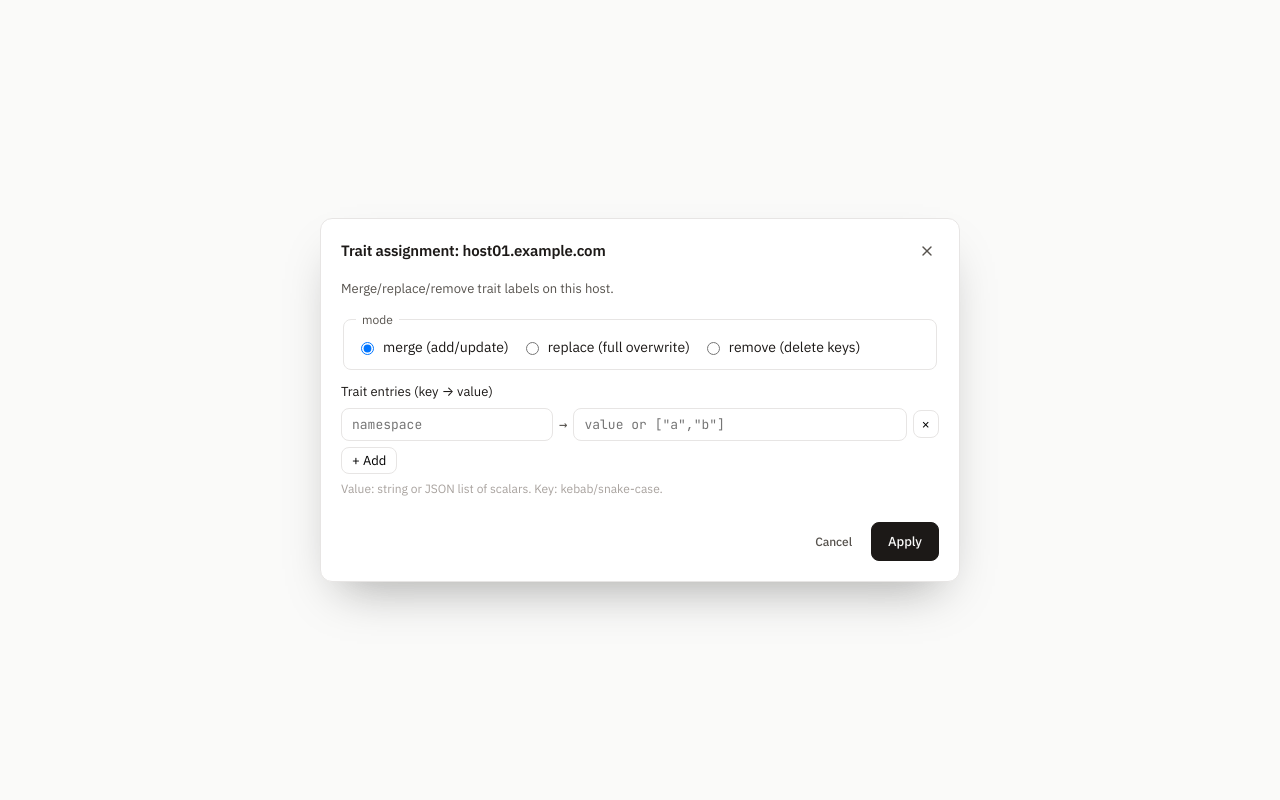
Test: TraitsAssignModal › accepts snake_case key owner_team (NIM-67)
Type "owner_team" into the field with test id "trait-key-0" at (447,424), box top-left (341, 408), bottom-right (553, 441)
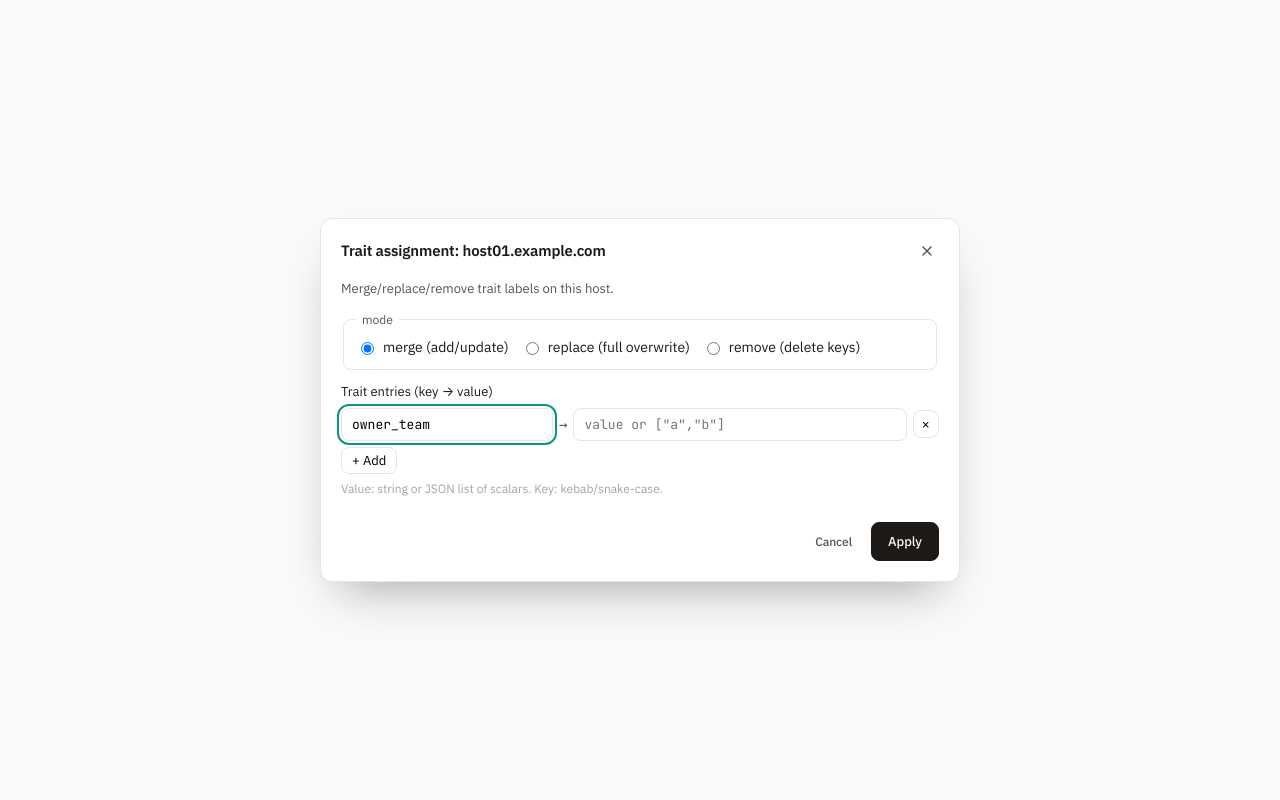
Type "dba" into the field with test id "trait-val-0" at (740,424), box top-left (573, 408), bottom-right (907, 441)
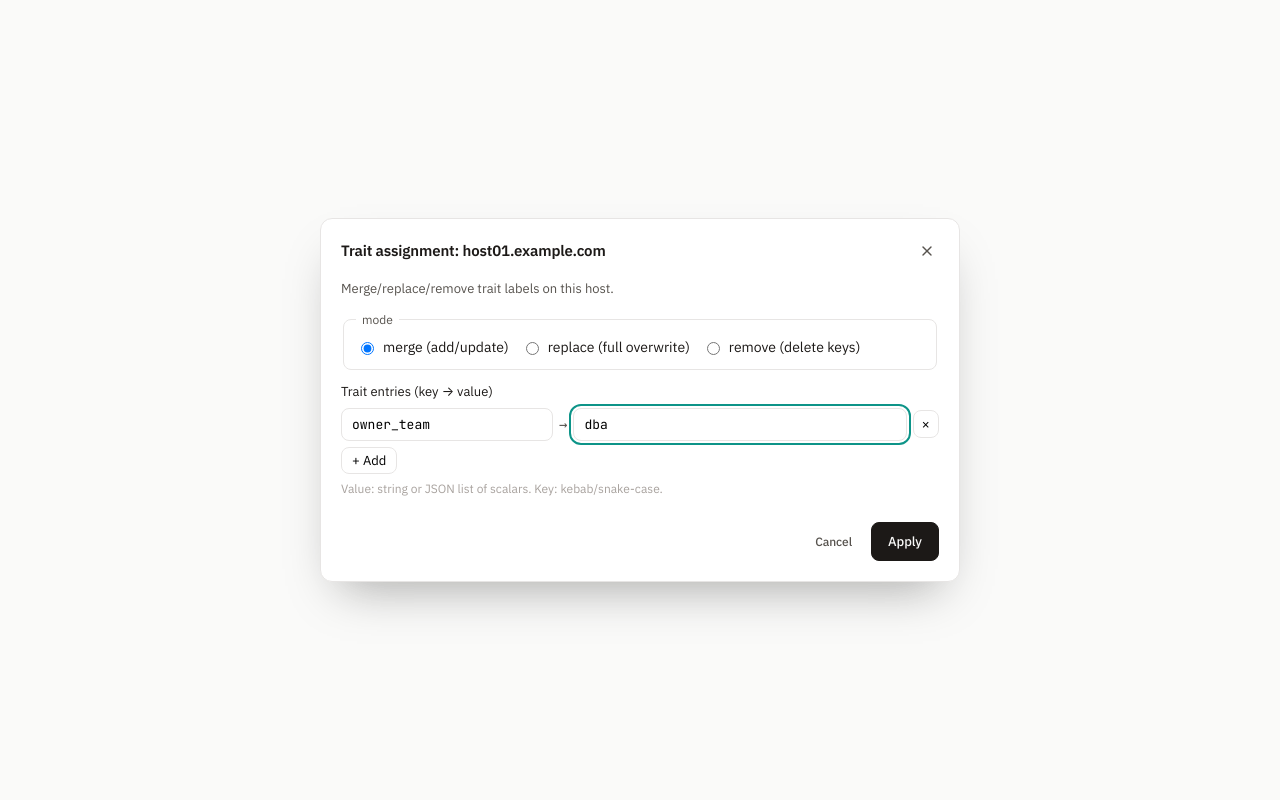
Click the button "Apply" at (905,541), box top-left (871, 522), bottom-right (939, 561)
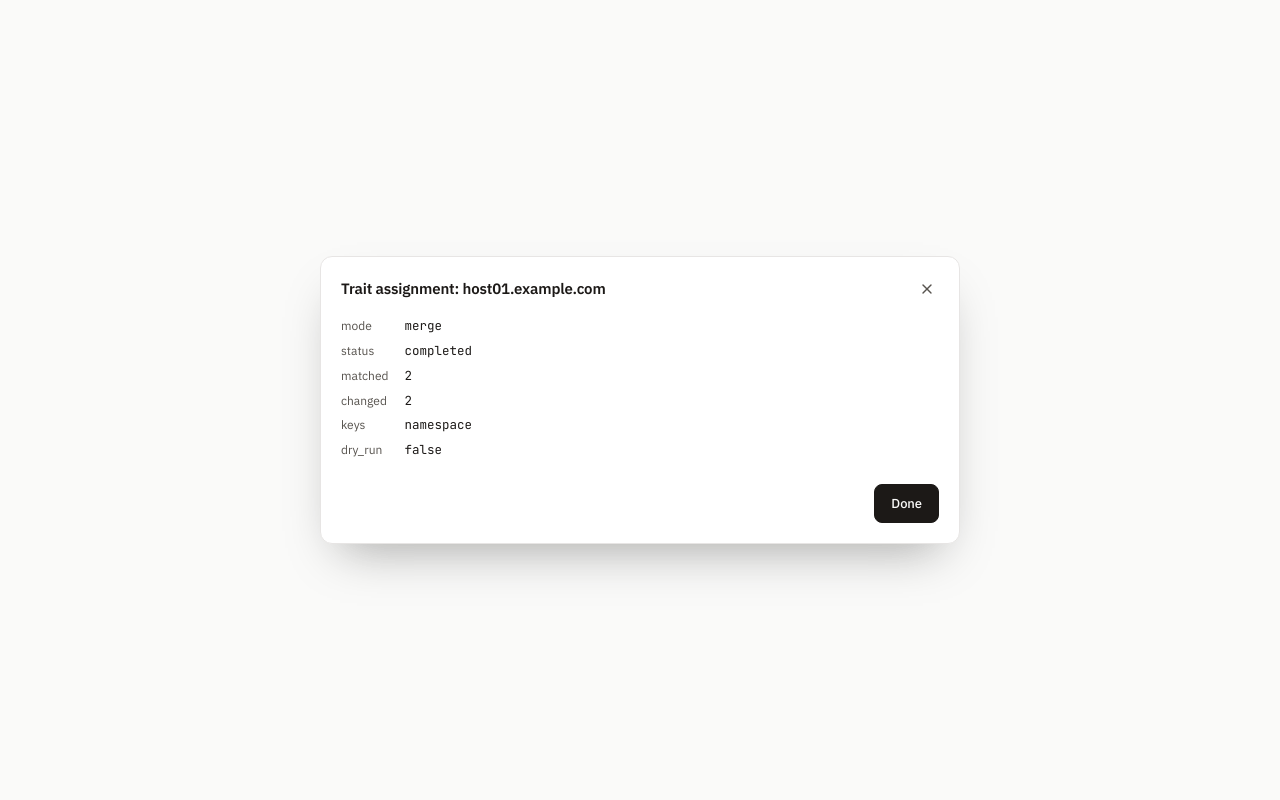
Check: the text "completed" is shown, box top-left (404, 342), bottom-right (472, 359)
